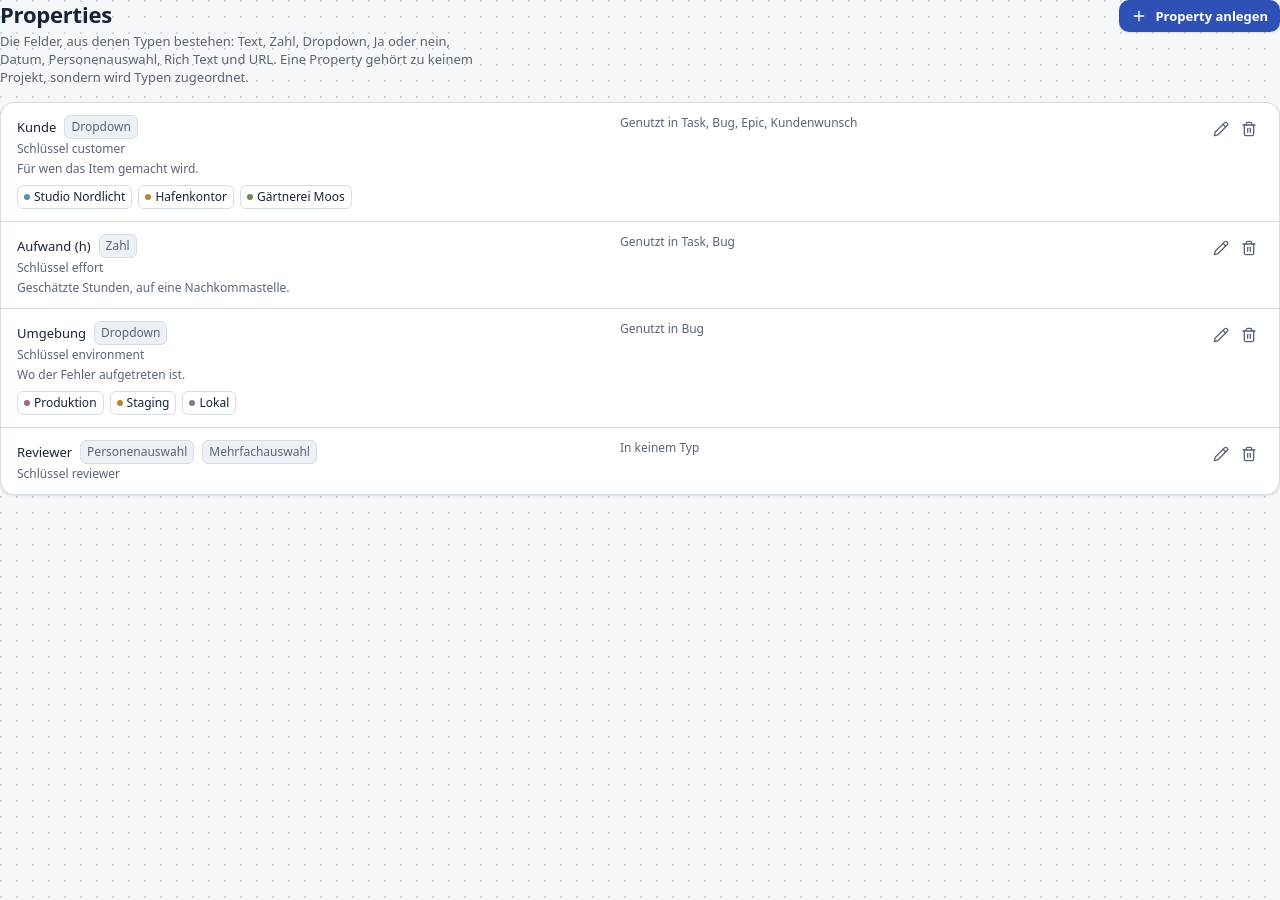
Properties › deletes a property only after the question, keeps it on "Abbrechen", and moves the focus on
The width and height of the screenshot is (1280, 900).
Click the button named "Property „Aufwand (h)“ löschen" at (1249, 248), box 1235,234 -> 1263,262
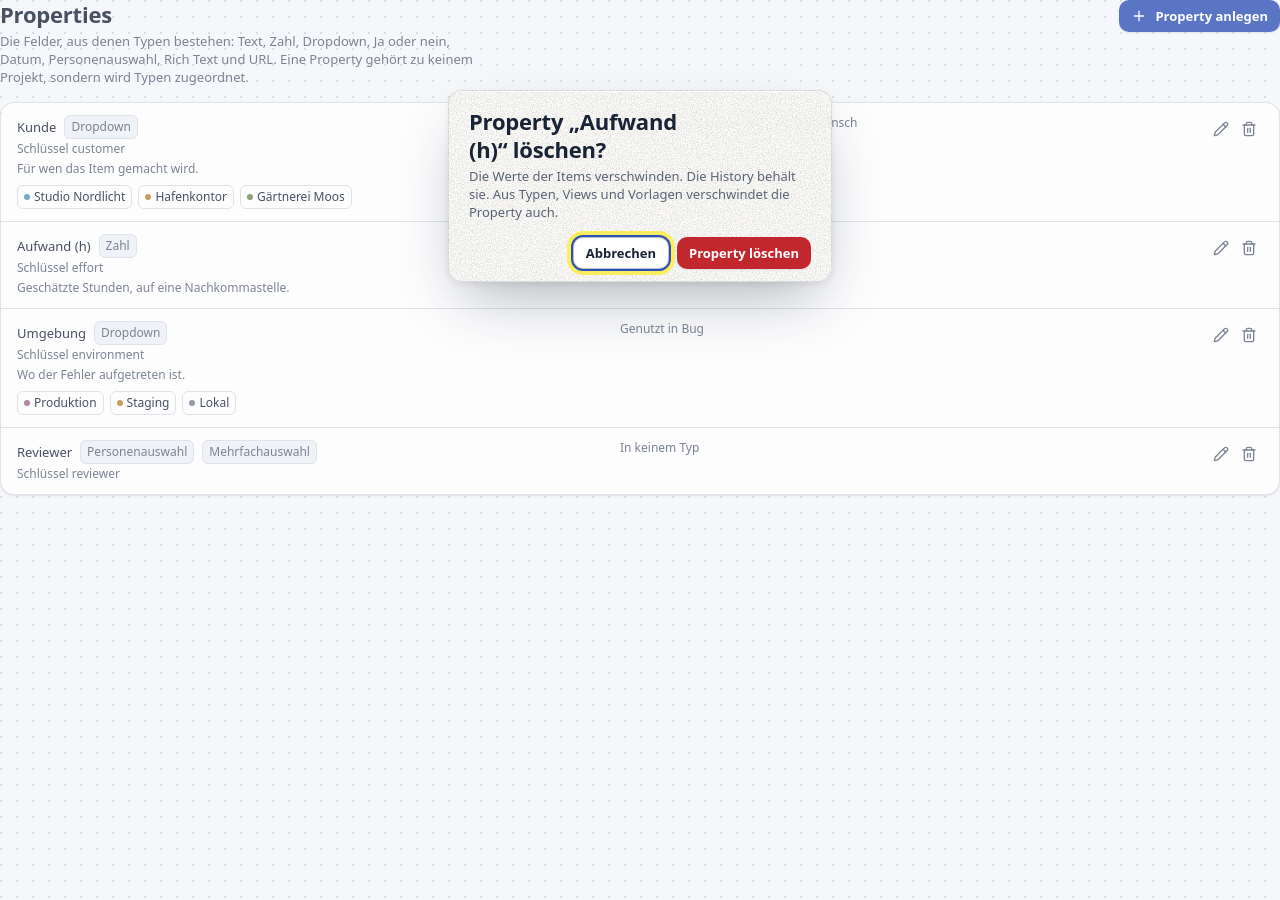
expect the text "Die Werte der Items verschwinden. Die History behält sie. Aus Typen, Views und Vorlagen verschwindet die Property auch." is shown: met, box 469,167 -> 796,221
Click the button "Abbrechen" at (621, 253), box 573,237 -> 669,269
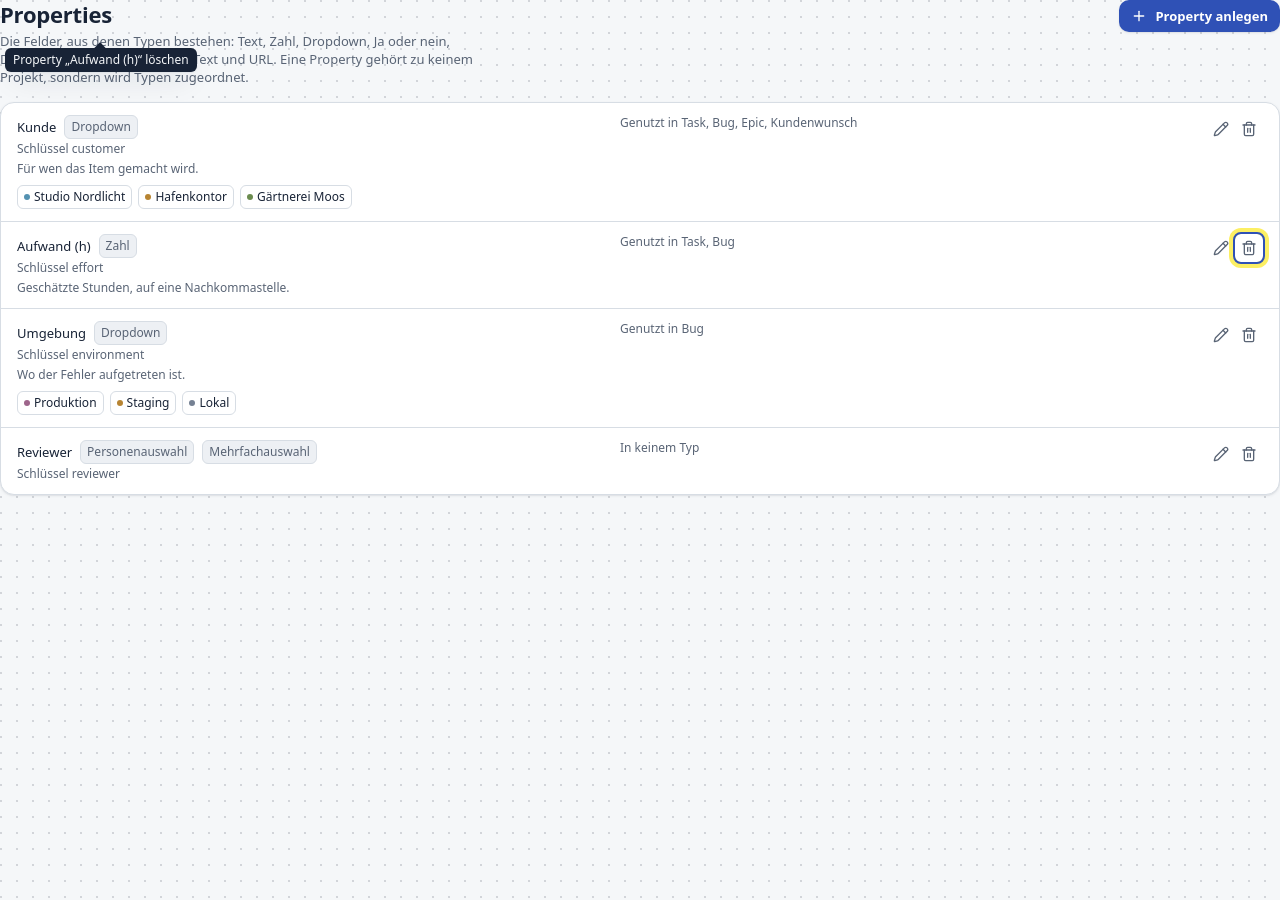
expect the list item "Aufwand (h)" is shown: met, box 1,222 -> 1279,309
expect the dialog is gone: met
Click the button named "Property „Aufwand (h)“ löschen" at (1249, 248), box 1235,234 -> 1263,262
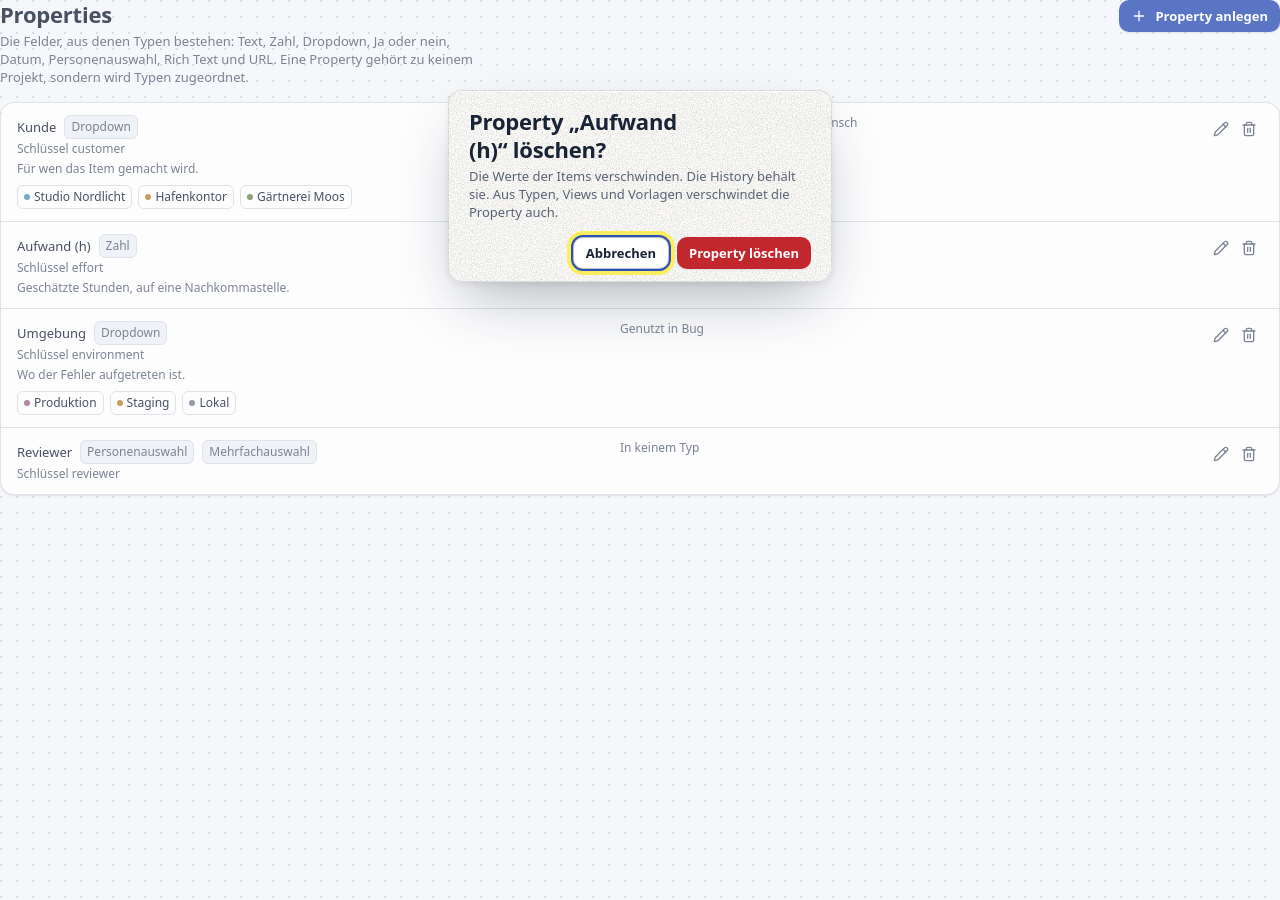
Click the button "Property löschen" at (744, 253), box 677,237 -> 811,269
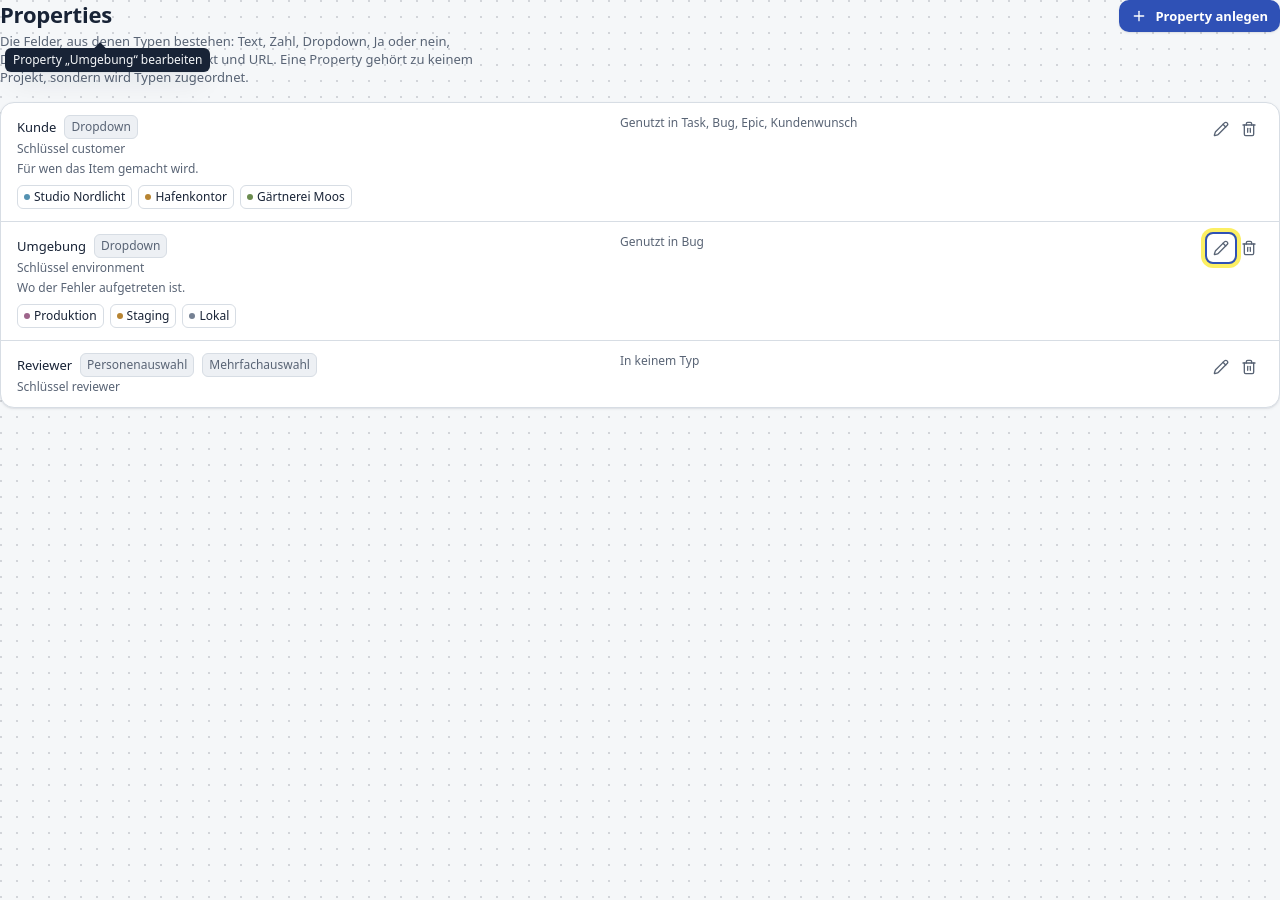
expect the heading "Aufwand (h)" is gone: met
